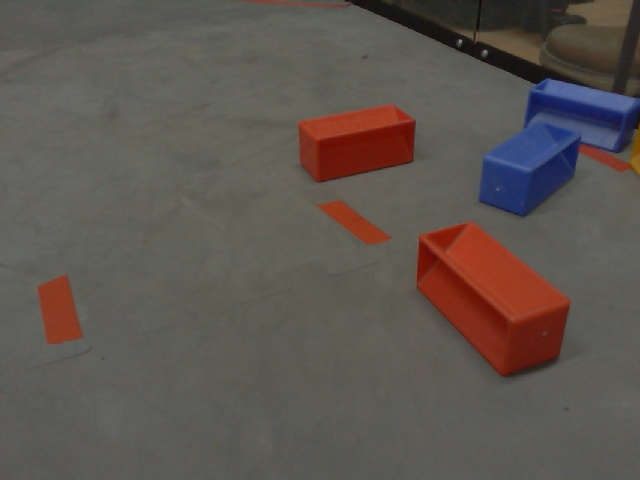BlueSample: (476, 123, 585, 217), (520, 76, 639, 152)
RedSample: (411, 215, 574, 384), (295, 105, 416, 183)
